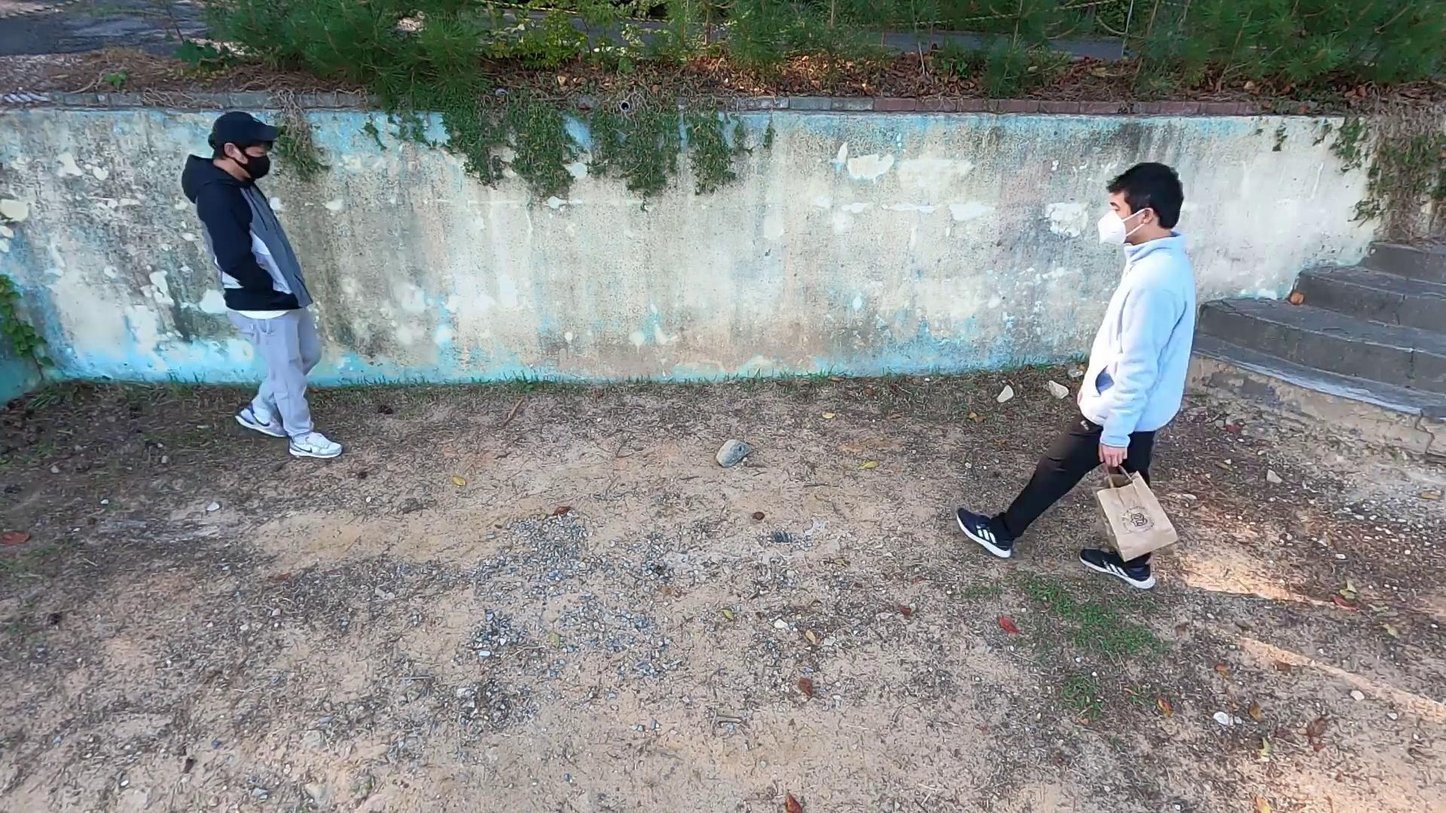person: (950, 159, 1197, 594), (180, 108, 345, 461)
trash: (1096, 457, 1183, 562)
